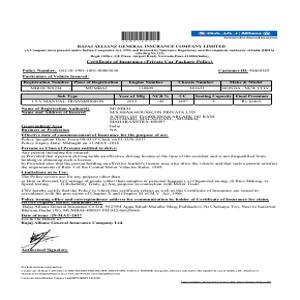table: (21, 79, 273, 92), (21, 93, 272, 104)
text: (19, 197, 278, 225), (20, 170, 271, 194), (21, 147, 279, 169), (21, 134, 172, 147)
